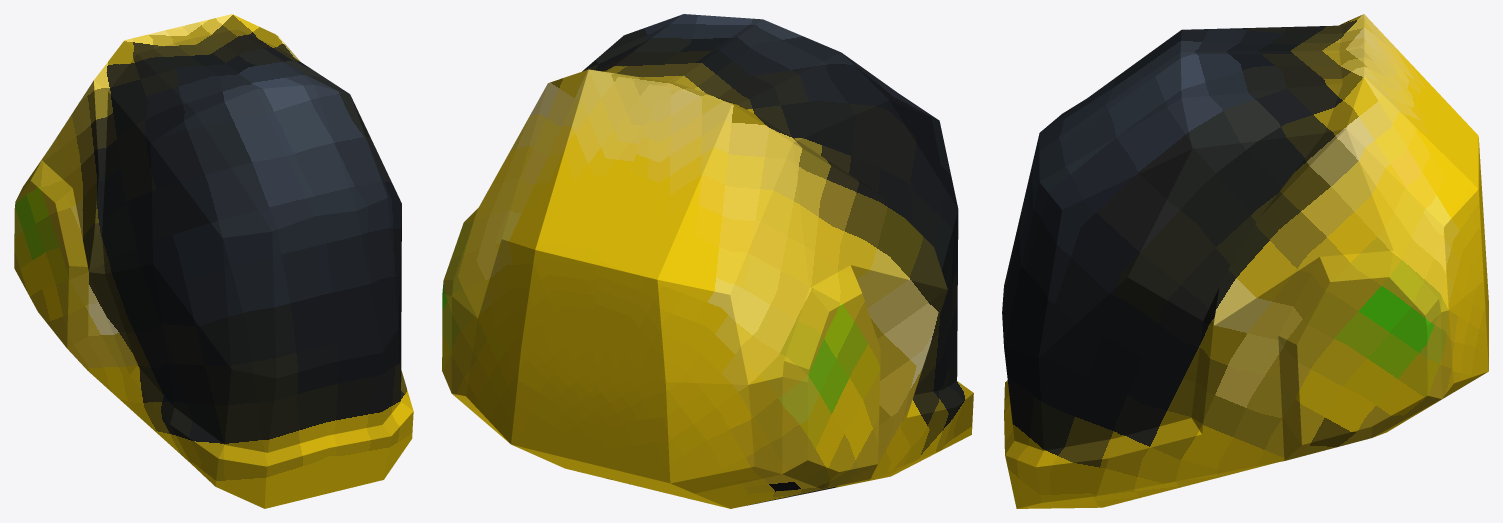
Rendered from daftpunk.glb.
3 views of the same model, side by side, from view 1: azimuth 30°, elevation 25°; view 2: azimuth 150°, elevation 25°; view 3: azimuth 270°, elevation 25° (orthographic). The views are drawn at different scales.
Visible parts, largest first — view 1: daftpunk; view 2: daftpunk; view 3: daftpunk.
Part boxes in pixels (x1,y1,x2,y2): daftpunk: [14, 14, 413, 508]; daftpunk: [442, 14, 973, 508]; daftpunk: [1002, 14, 1488, 508].
Size of the model in its own units: 9.37 by 10.57 by 10.87.
Materials: 1 (1 with a texture image).
